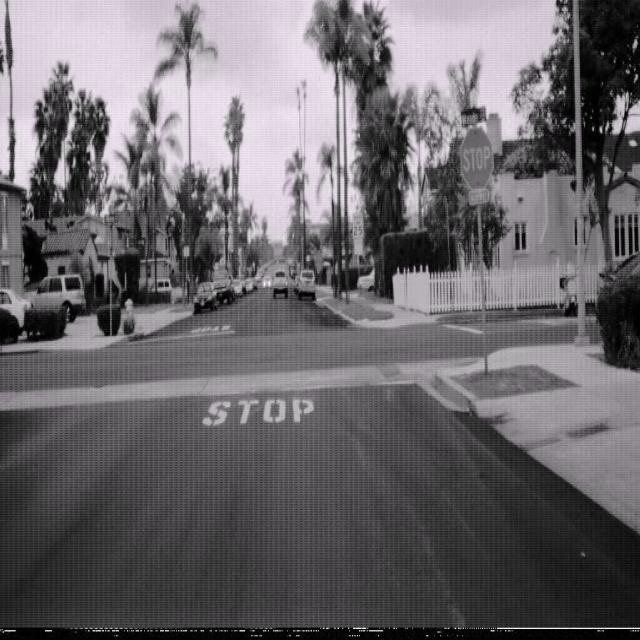stop_sign: (459, 124, 494, 191)
